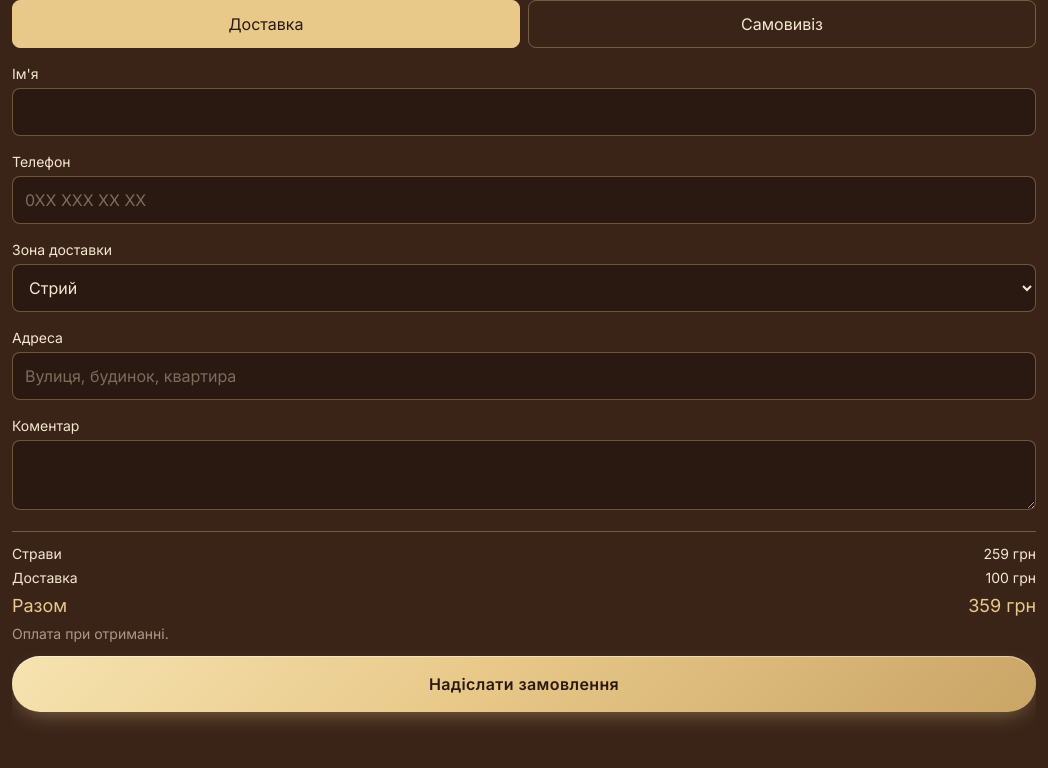
Test: CheckoutForm › requires an address for delivery
Type "Іван" into the field labelled "Ім'я" at (524, 112), box [12,88,1036,136]
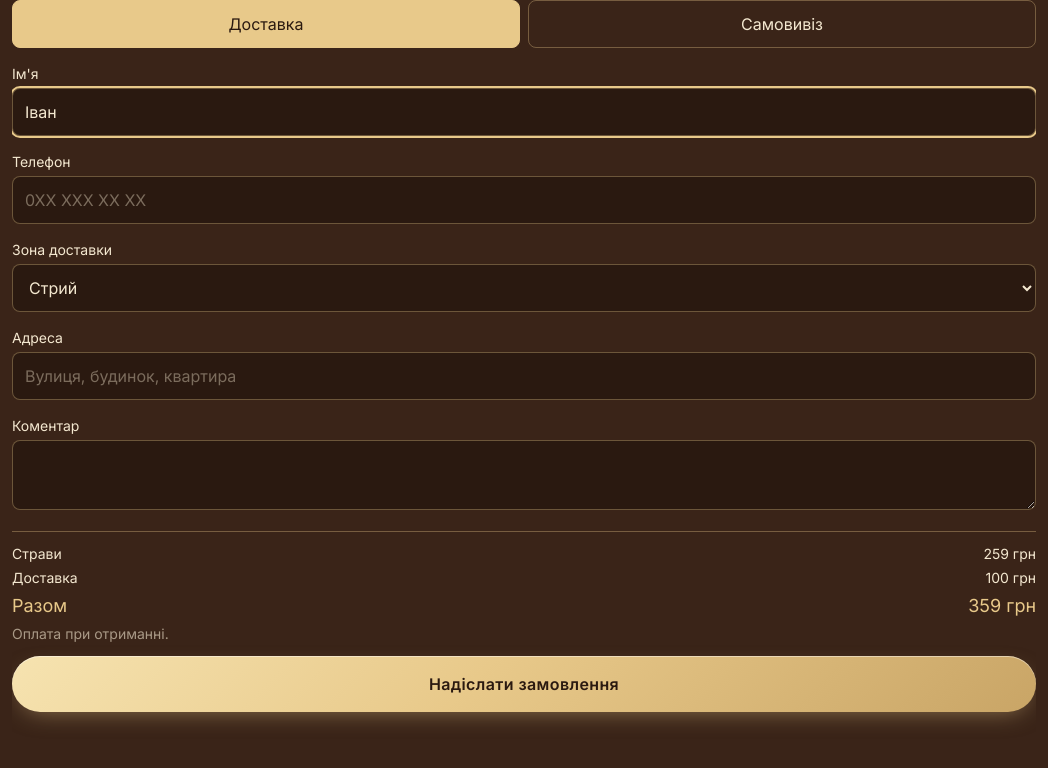
Type "0730888087" into the field labelled "Телефон" at (524, 200), box [12,176,1036,224]
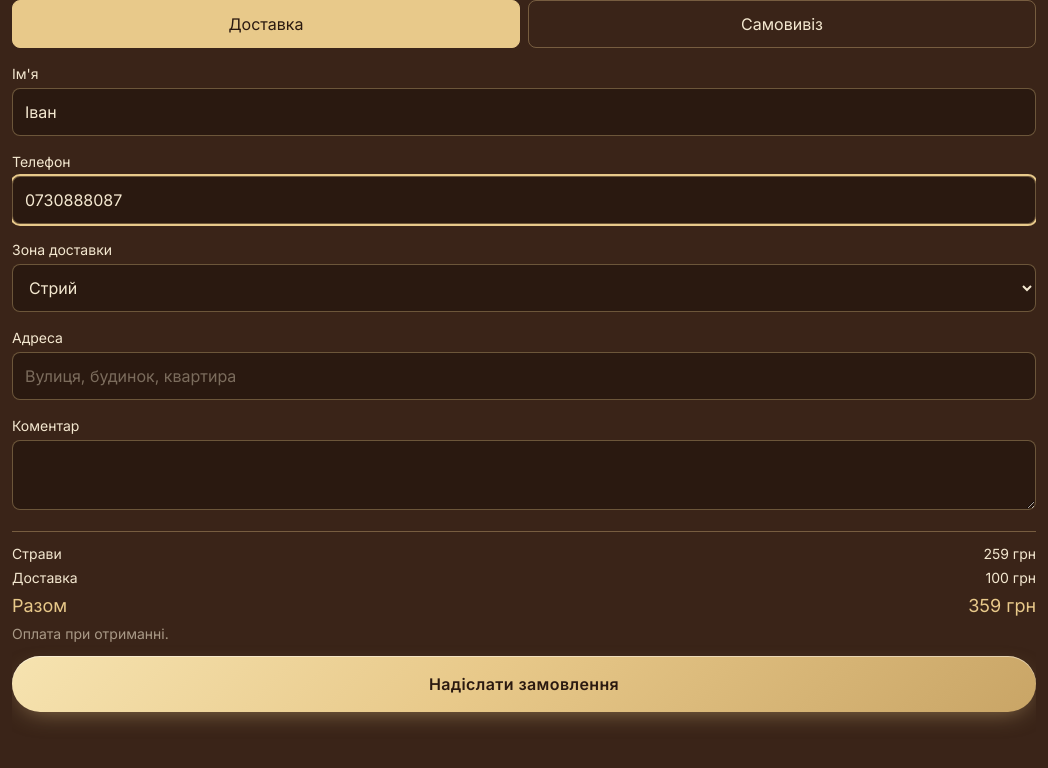
Click the button "Надіслати замовлення" at (524, 684), box [12,656,1036,712]
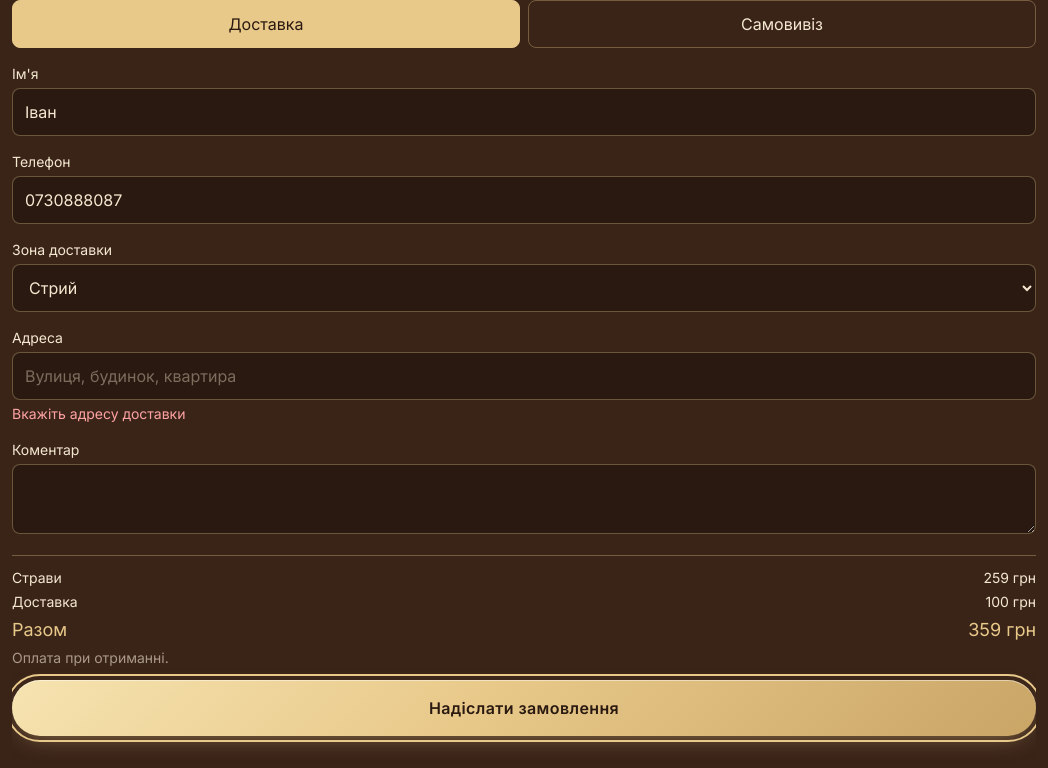
expect the text "Вкажіть адресу доставки" is shown: met, box [12,405,186,422]
